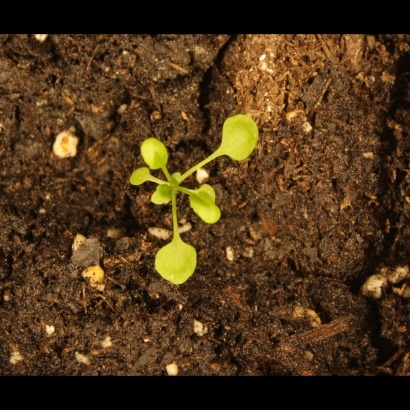leaf: (211, 109, 268, 165), (149, 235, 207, 290), (188, 182, 230, 235), (136, 133, 175, 171), (126, 162, 155, 190), (151, 183, 176, 211)
